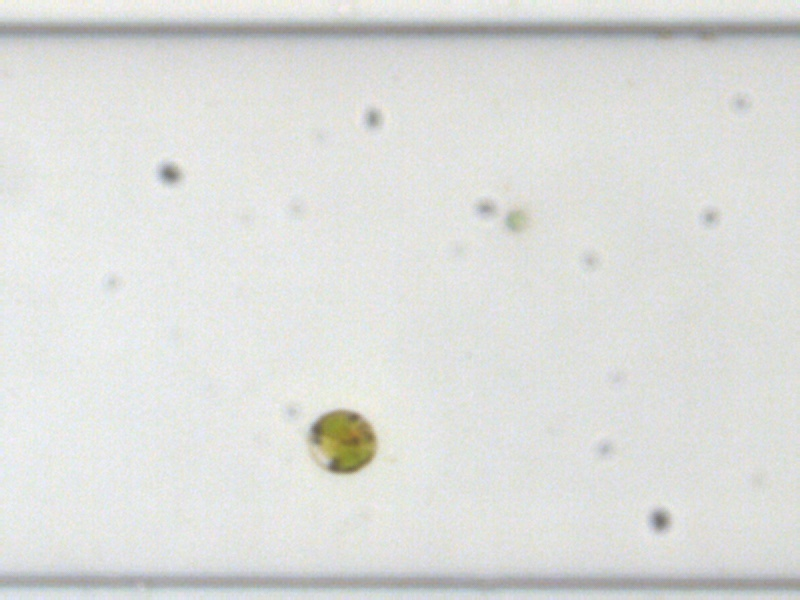Chlorella: (504, 206, 528, 231)
Haematococcus: (300, 407, 381, 477)
